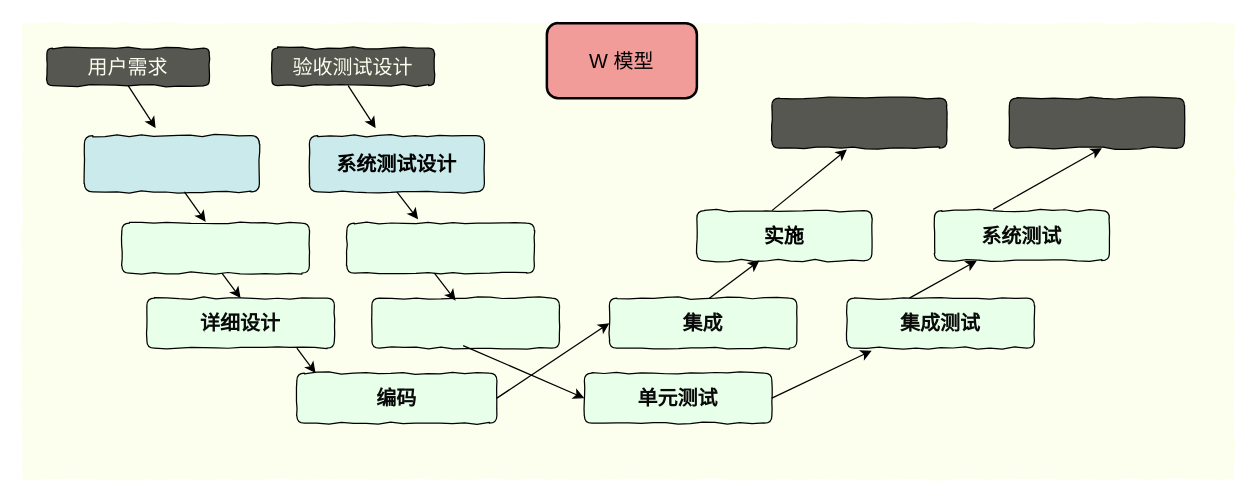
This 1255x500 diagram has some shape labels left out. Here are the shapes that lost their labels. From the top down, the box of each, then its label:
(771, 97, 947, 148): 交付
(1008, 97, 1184, 148): 验收测试
(83, 134, 259, 192): 需求分析
(121, 222, 309, 273): 概要设计
(346, 222, 534, 273): 集成测试设计
(371, 297, 559, 348): 单元测试设计
